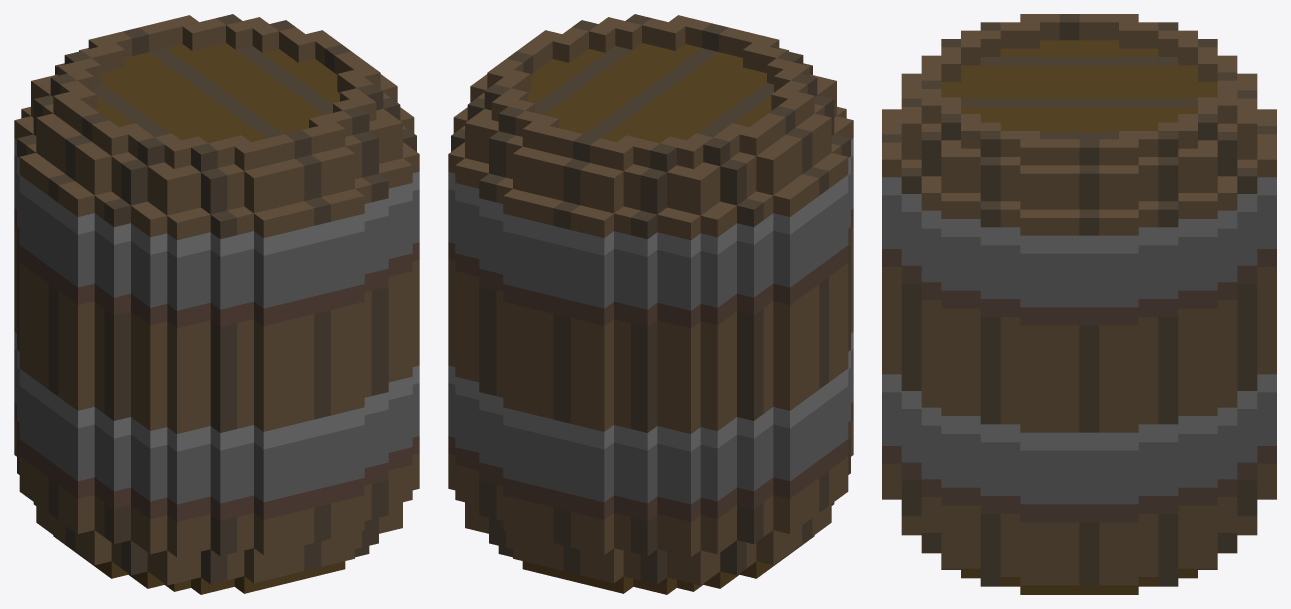
File: Barrel.obj
The picture shows the model from 3 angles, left to right: view 1: azimuth 30°, elevation 25°; view 2: azimuth 150°, elevation 25°; view 3: azimuth 270°, elevation 25°; orthographic projection.
Size of the model in its own units: 2 by 2.5 by 2.
Materials: 1 (1 with a texture image).
